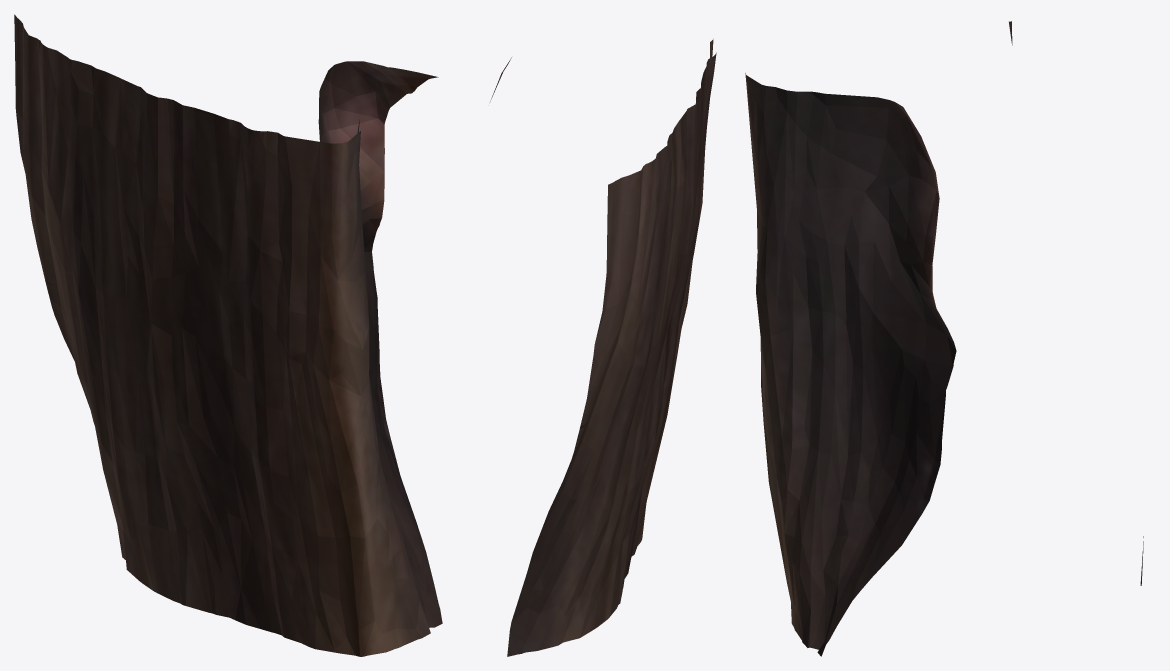
The picture shows the model from 3 angles, left to right: view 1: azimuth 30°, elevation 25°; view 2: azimuth 150°, elevation 25°; view 3: azimuth 270°, elevation 25°; orthographic projection. The views are drawn at different scales.
Bounding box in the file's own units: 43.66 × 85.74 × 61.35.
1 material, 1 textured.
